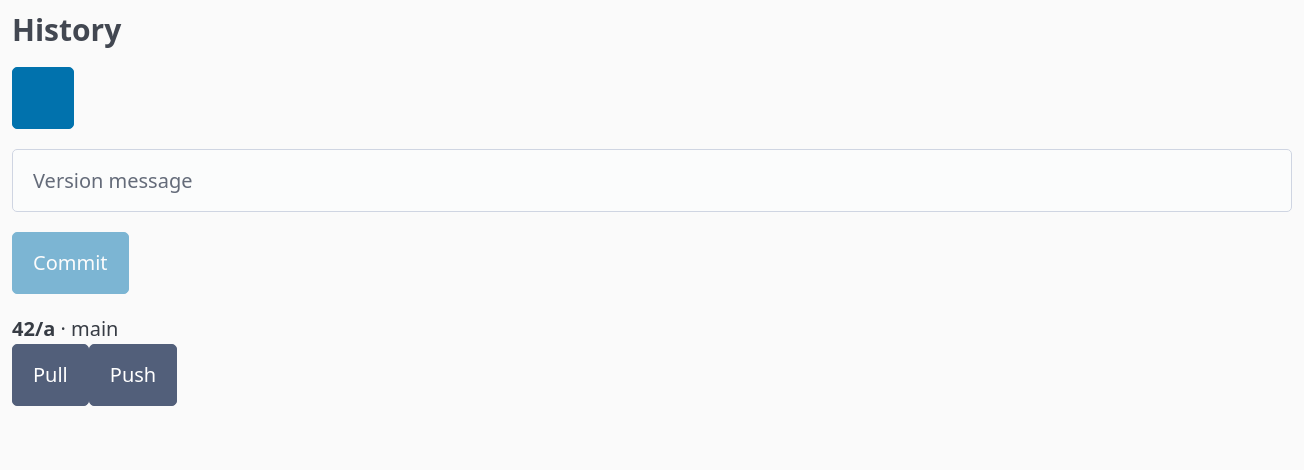
Test case: Git history panel layout › does not present a managed Push as completed publication
The width and height of the screenshot is (1304, 470).
Click the button "Push": coordinates (133, 375) top-left (89, 344), bottom-right (177, 406)
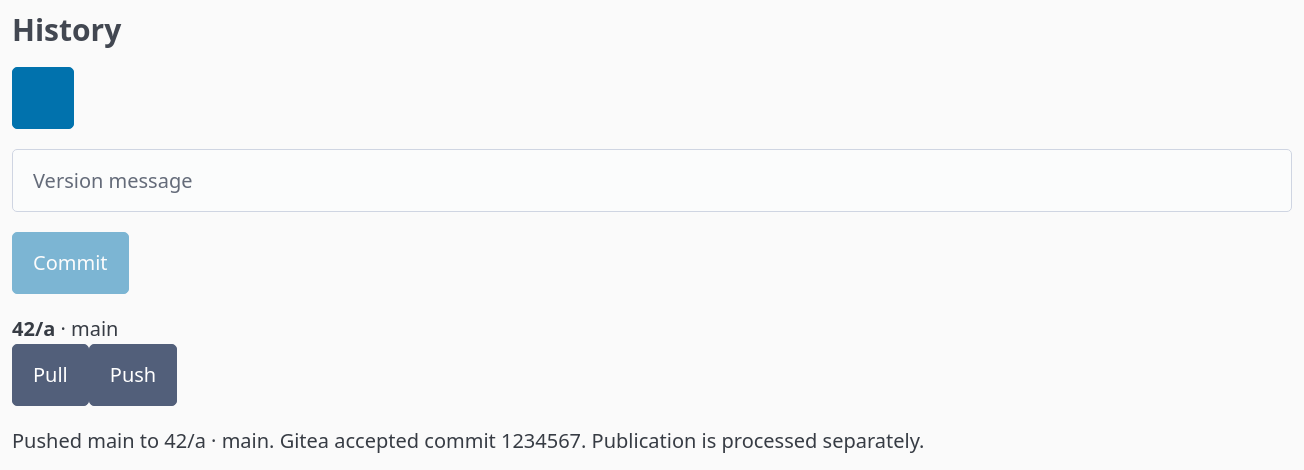
expect the text "Pushed main to 42/a · main. Gitea accepted commit 1234567. Publication is processed separately." is shown: met, box top-left (12, 427), bottom-right (924, 454)
